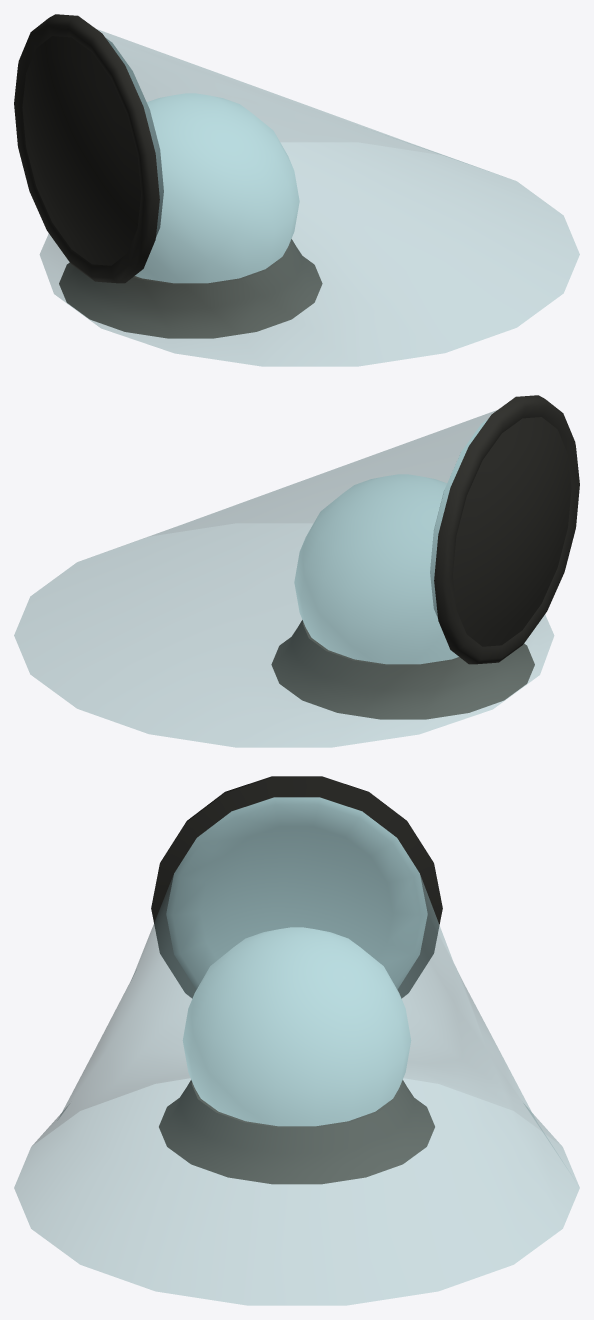
Rendered from OT_140_stage_light.glb.
The picture shows the model from 3 angles, top to bottom: view 1: azimuth 30°, elevation 25°; view 2: azimuth 150°, elevation 25°; view 3: azimuth 270°, elevation 25°; orthographic projection. The views are drawn at different scales.
Parts seen in each view (by area): view 1: lightbeam, light_bulb, floodlight; view 2: lightbeam, light_bulb, floodlight; view 3: lightbeam, light_bulb, floodlight.
Boxes of the visible parts, bbox=[...] form: lightbeam: bbox=[39, 29, 579, 366]; light_bulb: bbox=[59, 93, 322, 338]; floodlight: bbox=[14, 14, 163, 283]; lightbeam: bbox=[14, 410, 554, 747]; light_bulb: bbox=[271, 474, 534, 719]; floodlight: bbox=[430, 395, 579, 664]; lightbeam: bbox=[14, 797, 579, 1305]; light_bulb: bbox=[159, 927, 434, 1184]; floodlight: bbox=[151, 776, 442, 998].
Bounding box in the file's own units: 0.7091 × 0.4049 × 0.6984.
